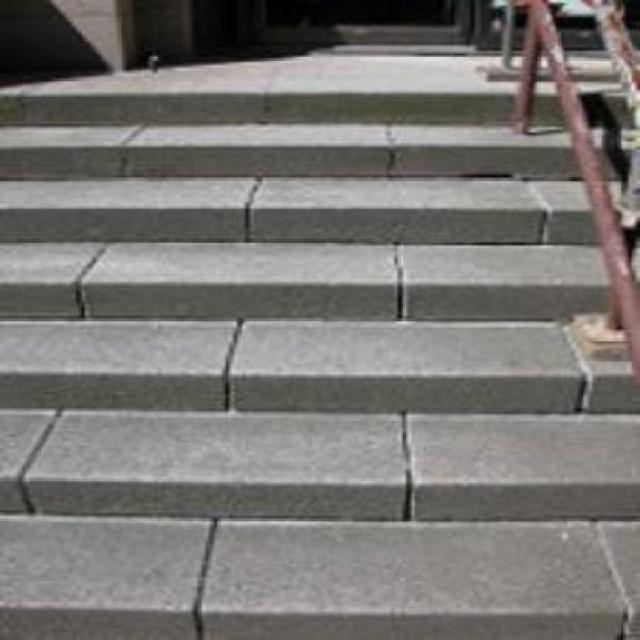stair: (7, 74, 596, 640)
